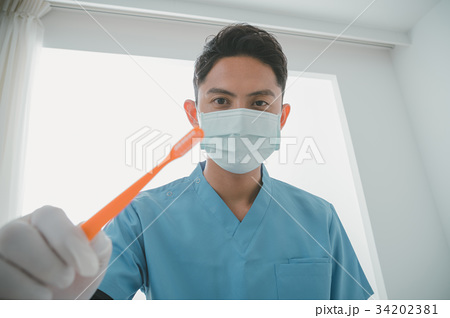mask: (198, 109, 283, 170)
